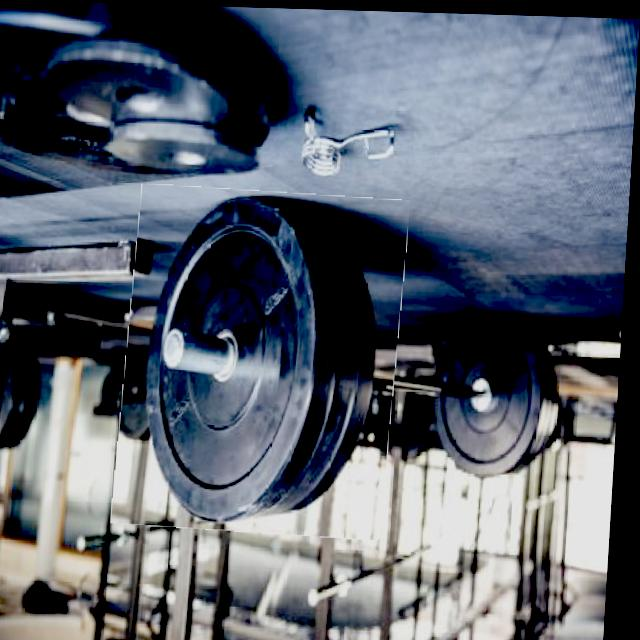barbell: (121, 185, 411, 536)
